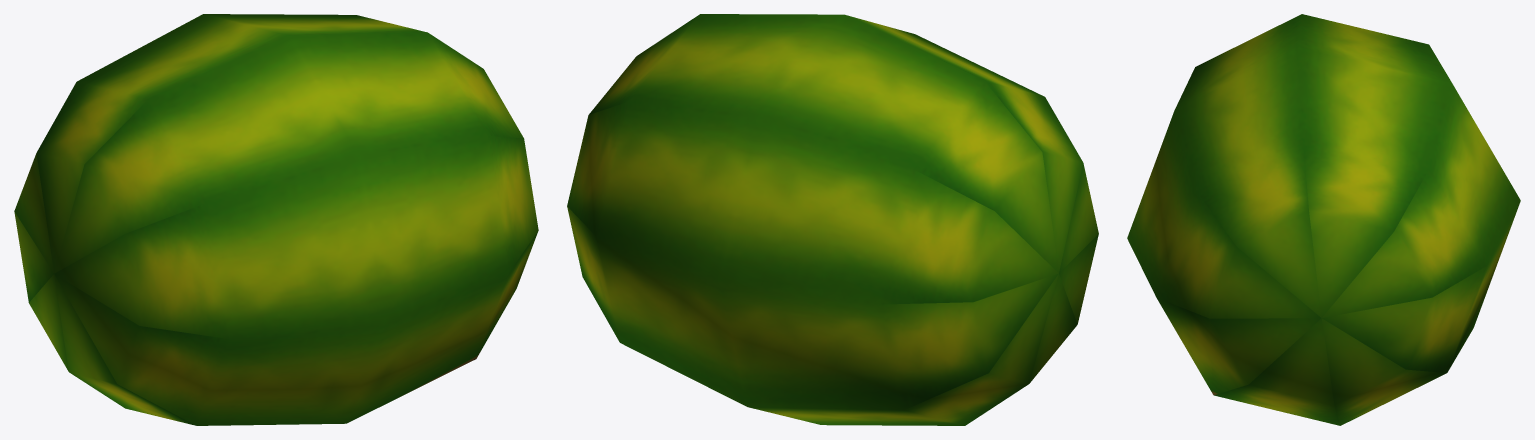
The model's file is WaterMelon.FBX.
The picture shows the model from 3 angles, left to right: view 1: azimuth 30°, elevation 25°; view 2: azimuth 150°, elevation 25°; view 3: azimuth 270°, elevation 25°; orthographic projection. The views are drawn at different scales.
Visible parts, largest first — view 1: WaterMelon; view 2: WaterMelon; view 3: WaterMelon.
Boxes of the visible parts, <box> form: WaterMelon: <box>14,14,538,425</box>; WaterMelon: <box>567,14,1098,425</box>; WaterMelon: <box>1127,14,1520,425</box>.
Size of the model in its own units: 0.6493 by 0.5378 by 0.5572.
